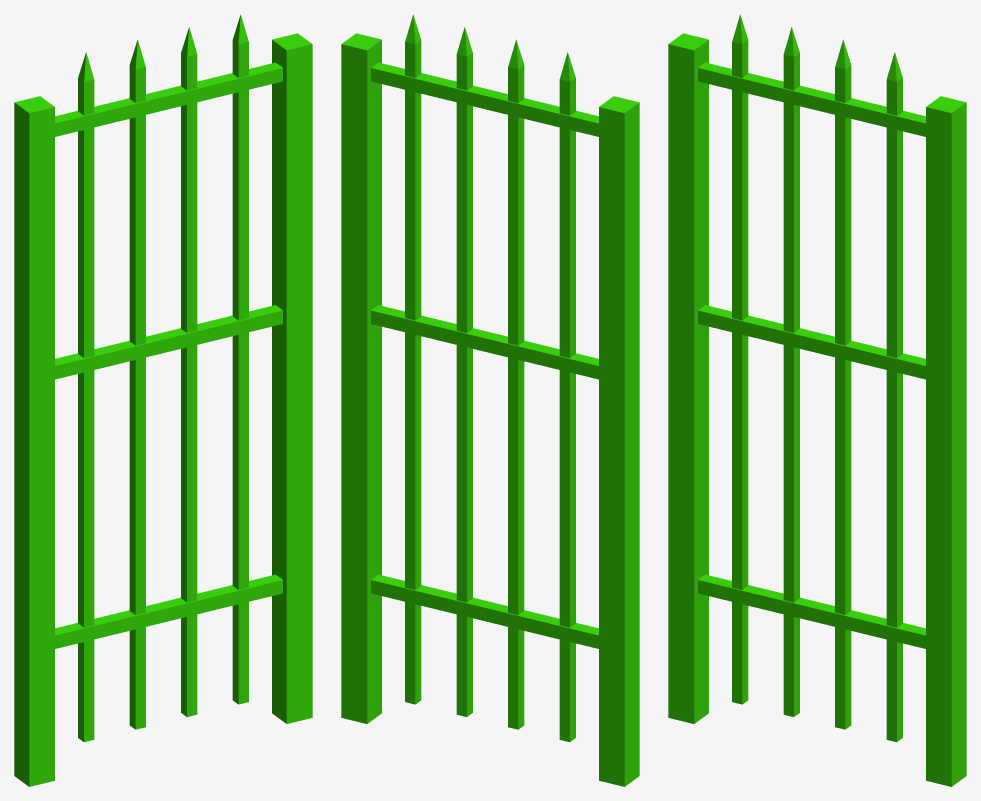
The picture shows the model from 3 angles, left to right: view 1: azimuth 30°, elevation 25°; view 2: azimuth 150°, elevation 25°; view 3: azimuth 330°, elevation 25°; orthographic projection.
Parts seen in each view (by area): view 1: fence3_01; view 2: fence3_01; view 3: fence3_01.
Part boxes in pixels (<box>): fence3_01: <box>14,14,312,786</box>; fence3_01: <box>341,14,639,786</box>; fence3_01: <box>668,14,966,786</box>.
Bounding box in the file's own units: 1.1 × 2.65 × 0.1.
